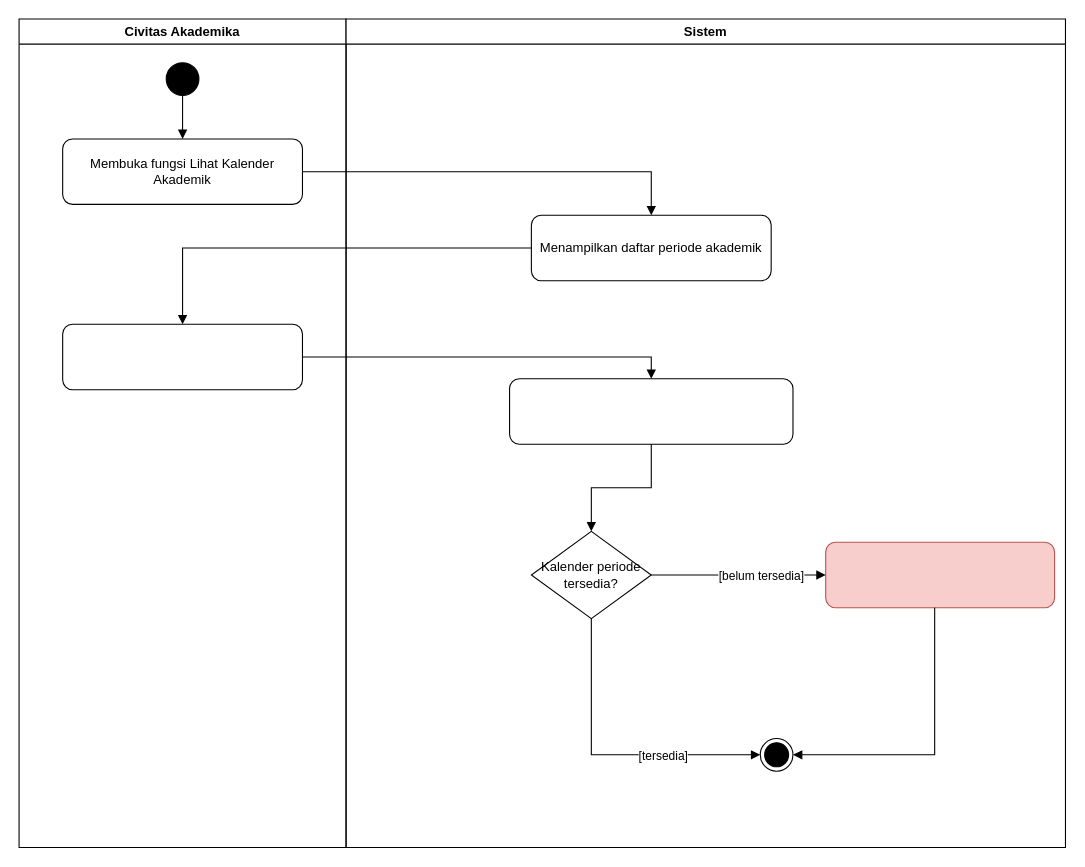
This 1085x867 diagram has some shape labels left out. The shapes that lost their labels are listed below. From the top down, each one's box as (x1, y1, x2, y2) in pixels, then its label:
(62, 323, 302, 390): Memilih periode akademik
(508, 378, 793, 444): Menampilkan kalender akademik periode terpilih
(825, 541, 1055, 608): Menampilkan pesan kalender periode belum tersedia
